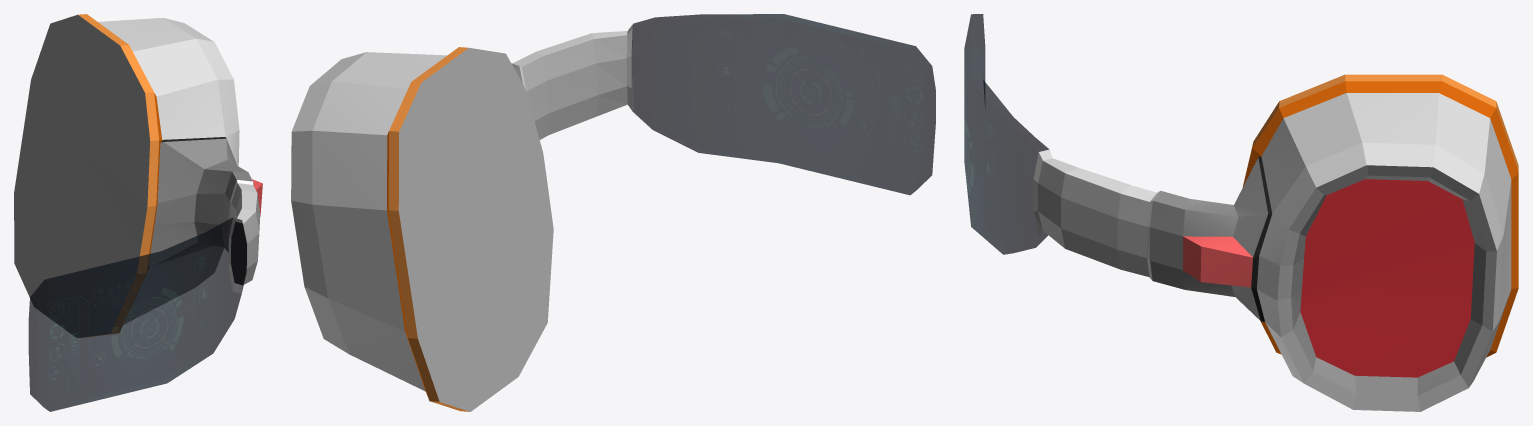
3 views of the same model, side by side, from view 1: azimuth 30°, elevation 25°; view 2: azimuth 150°, elevation 25°; view 3: azimuth 270°, elevation 25° (orthographic). The views are drawn at different scales.
Visible parts, largest first — view 1: Eyerwear_Over9000; view 2: Eyerwear_Over9000; view 3: Eyerwear_Over9000.
Part boxes in pixels (left/top/right/bottom): Eyerwear_Over9000: left=14, top=14, right=262, bottom=411; Eyerwear_Over9000: left=291, top=14, right=935, bottom=411; Eyerwear_Over9000: left=964, top=14, right=1518, bottom=411.
Size of what is drawn, in the model's own units: 0.1615 by 0.124 by 0.1922.
2 materials, 2 textured.
